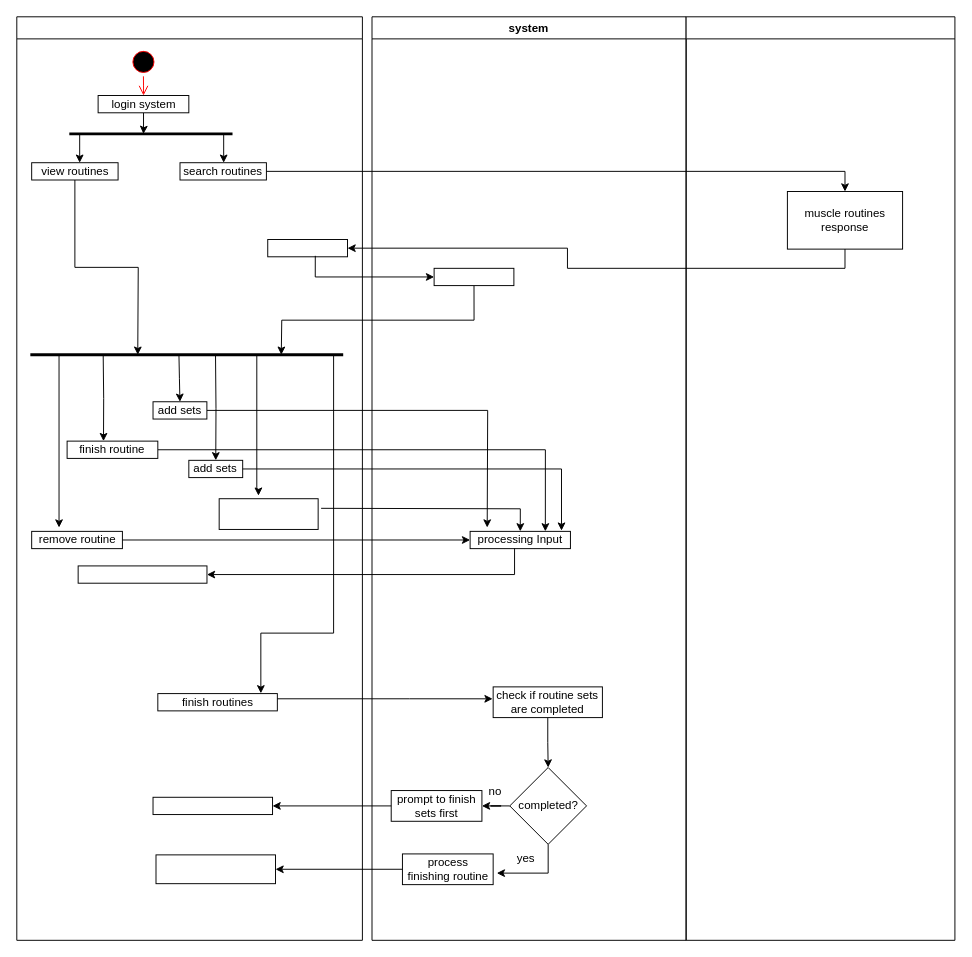
Some shapes in this 972 by 957 pixel diagram are drawn without their labels. The box of each missing label's shape, as (x1, y1, x2, y2) in pixels:
add routines: (433, 267, 514, 286)
attach pictures(routineID): (218, 498, 318, 529)
display message error: (152, 796, 273, 815)
display UpdatedContent: (77, 565, 207, 583)
ningasAPI: (685, 16, 955, 940)
see routine in past routines: (155, 854, 276, 884)
user: (16, 16, 362, 940)
view exercises: (267, 239, 348, 257)
